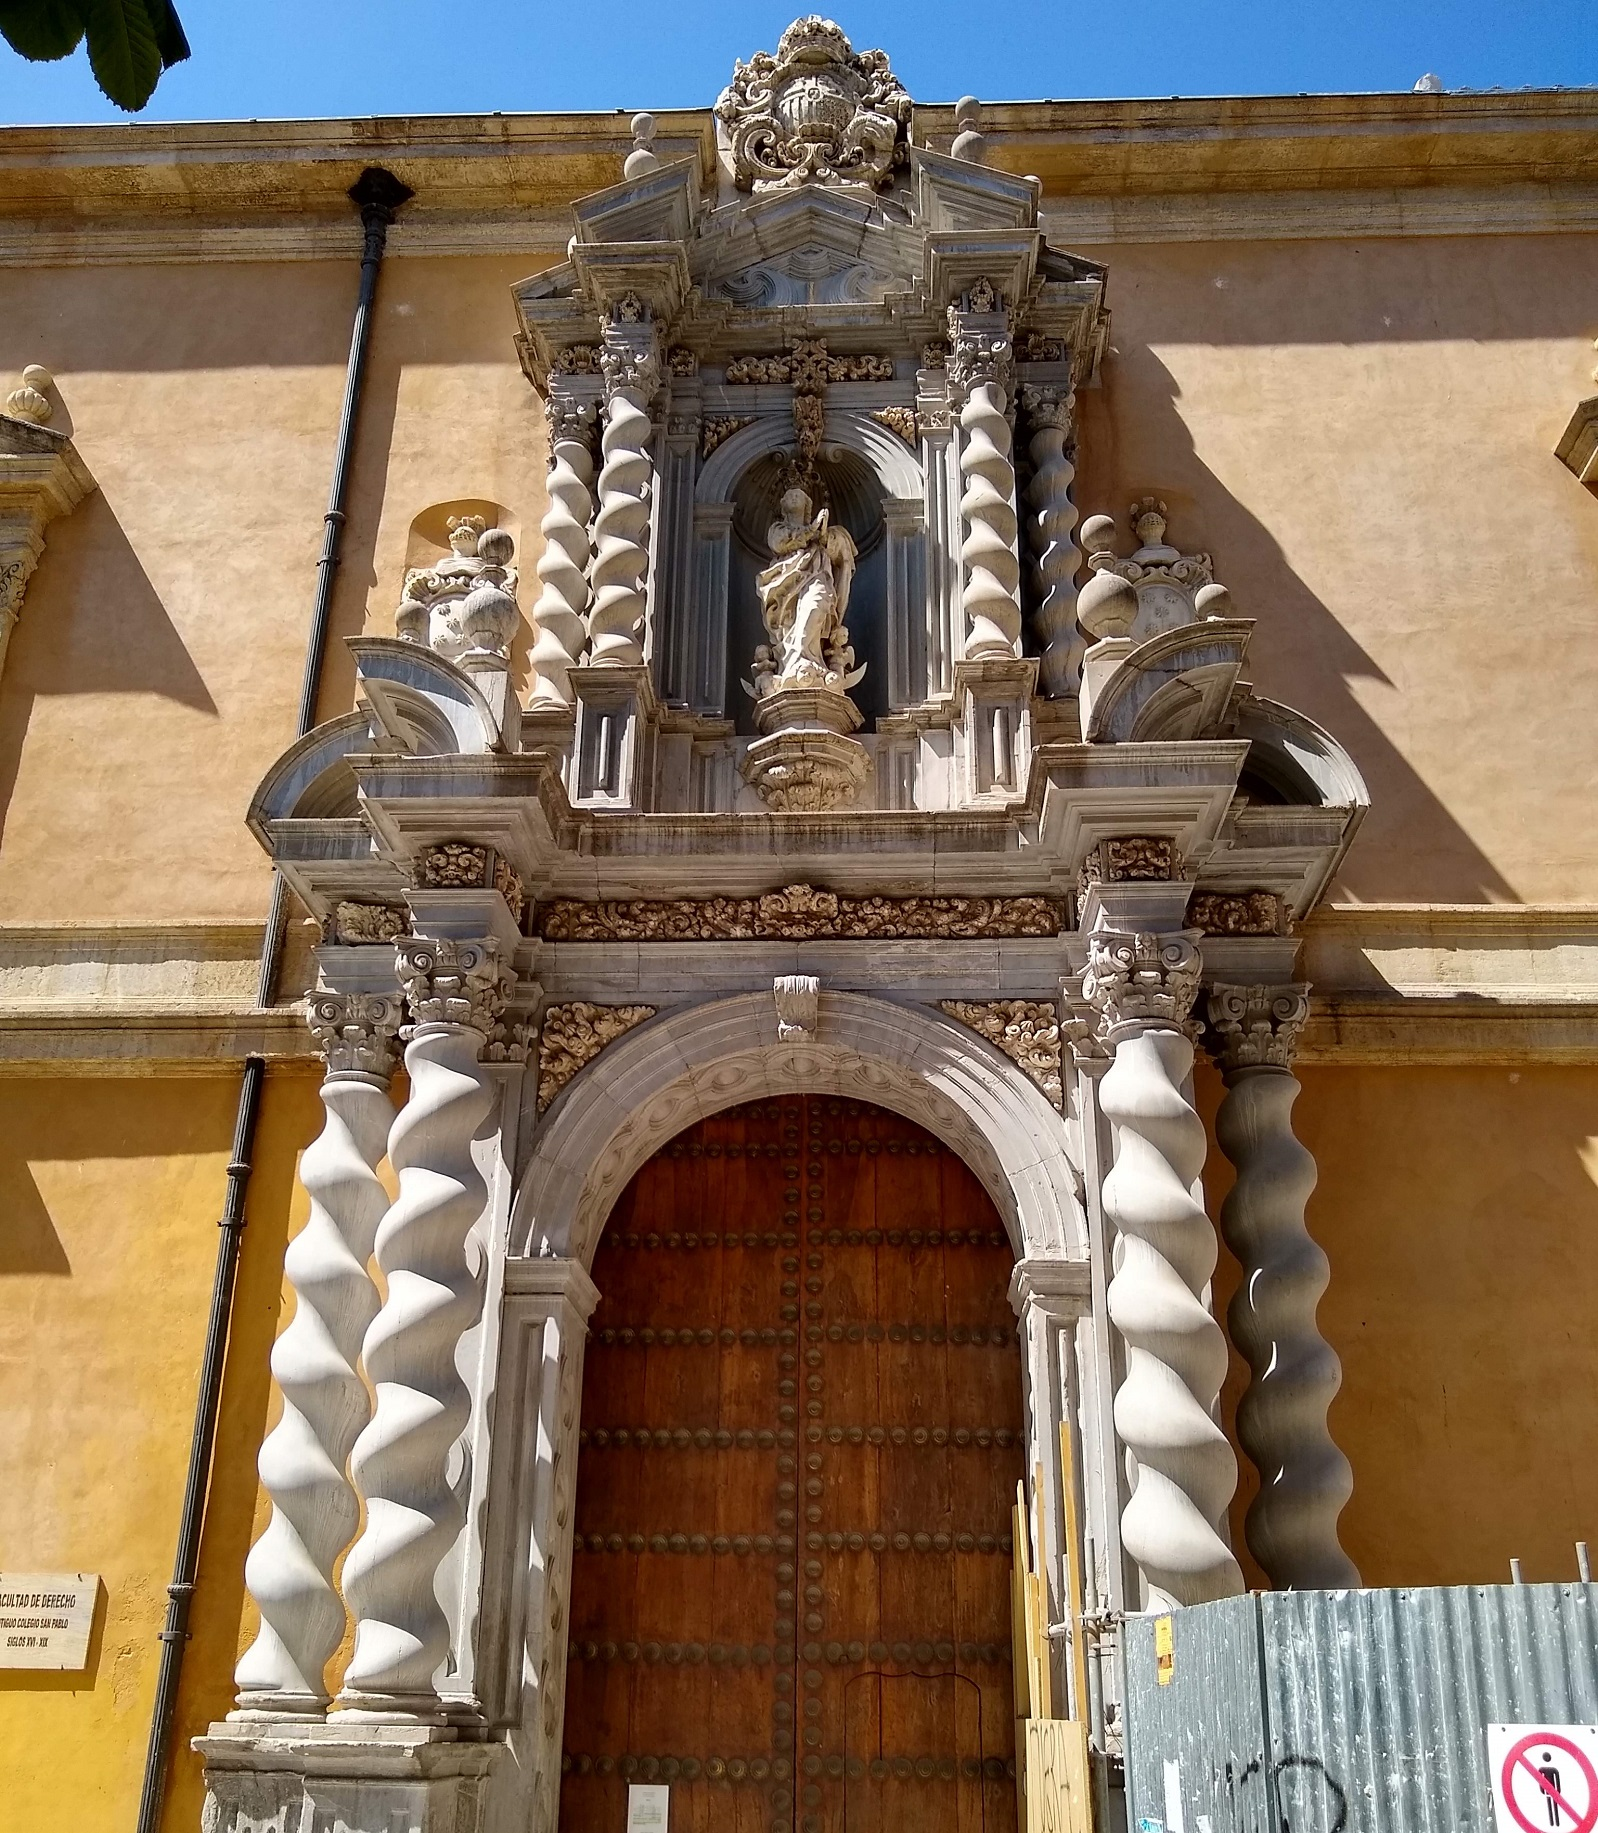arco-medio-punto: (547, 1030, 1066, 1347)
columna-salomonica: (232, 1068, 401, 1722), (346, 1040, 502, 1732), (1087, 1029, 1246, 1584), (1211, 1057, 1356, 1584), (586, 387, 659, 669), (956, 380, 1029, 661), (525, 426, 597, 709), (1016, 415, 1087, 697)
